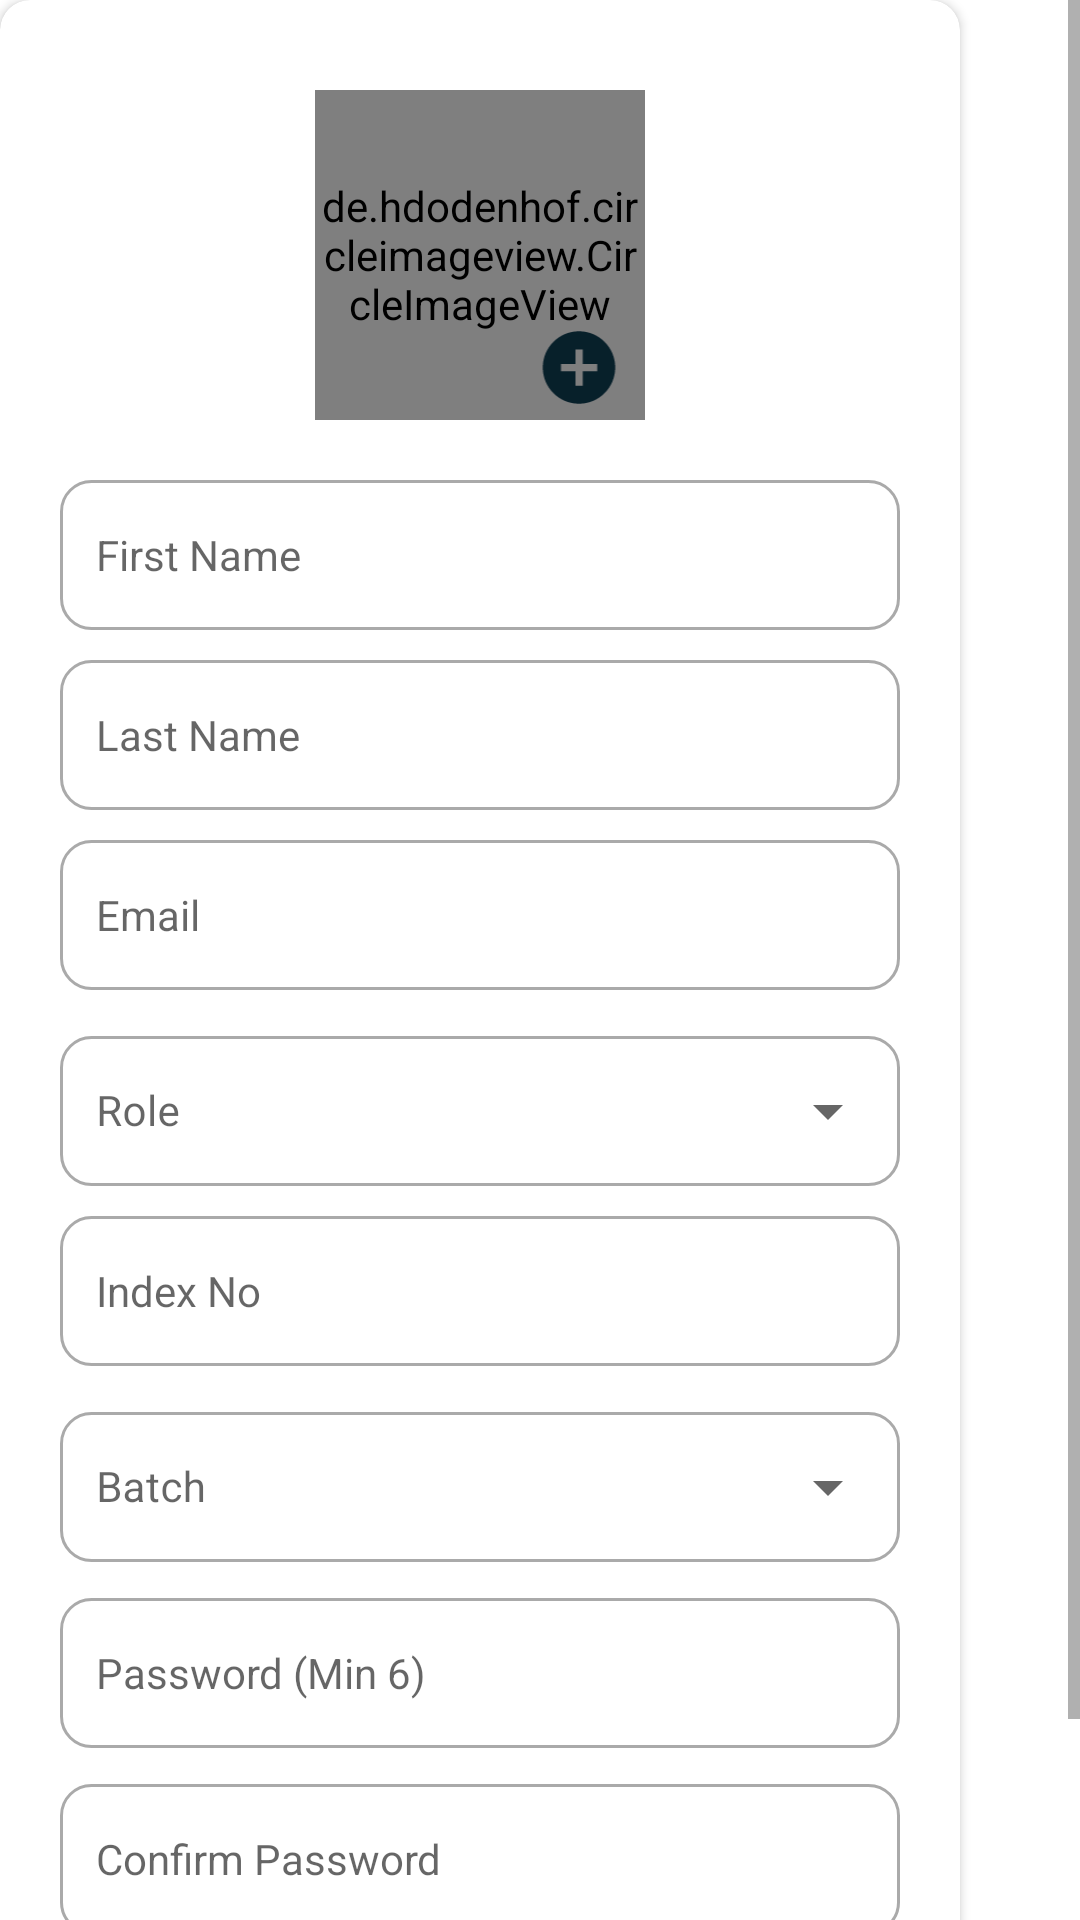

Locate icon controls on the screen. Image size 1080*1920, boxes as [x1, y1, x2, y2].
add circle: [542, 331, 616, 404]
